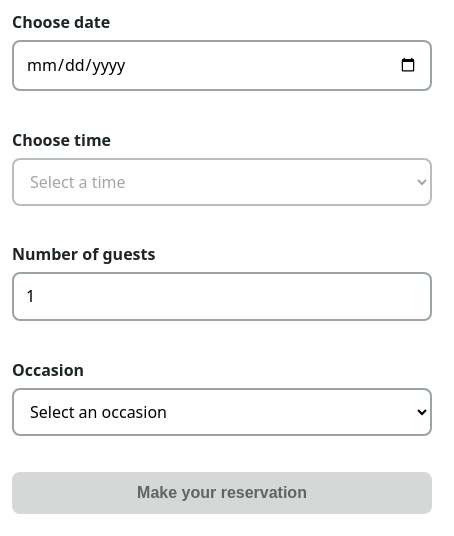
shows an error when guests is out of range
The width and height of the screenshot is (454, 536).
Replace the text in the number field labelled "Number of guests" with "20" at (222, 297), box x1=12 y1=272 x2=432 y2=321
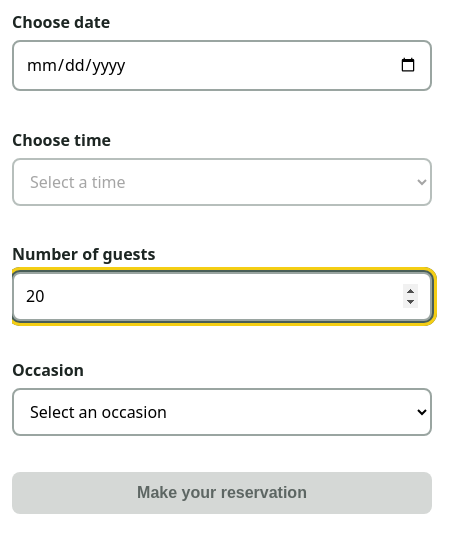
Press Tab
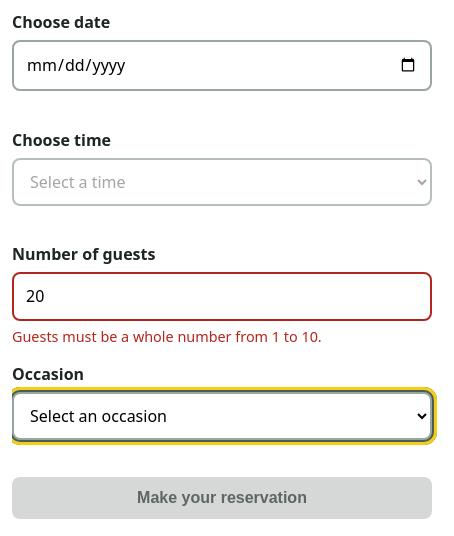
Now the text "Guests must be a whole number from 1 to 10." is shown, box x1=12 y1=327 x2=322 y2=346
